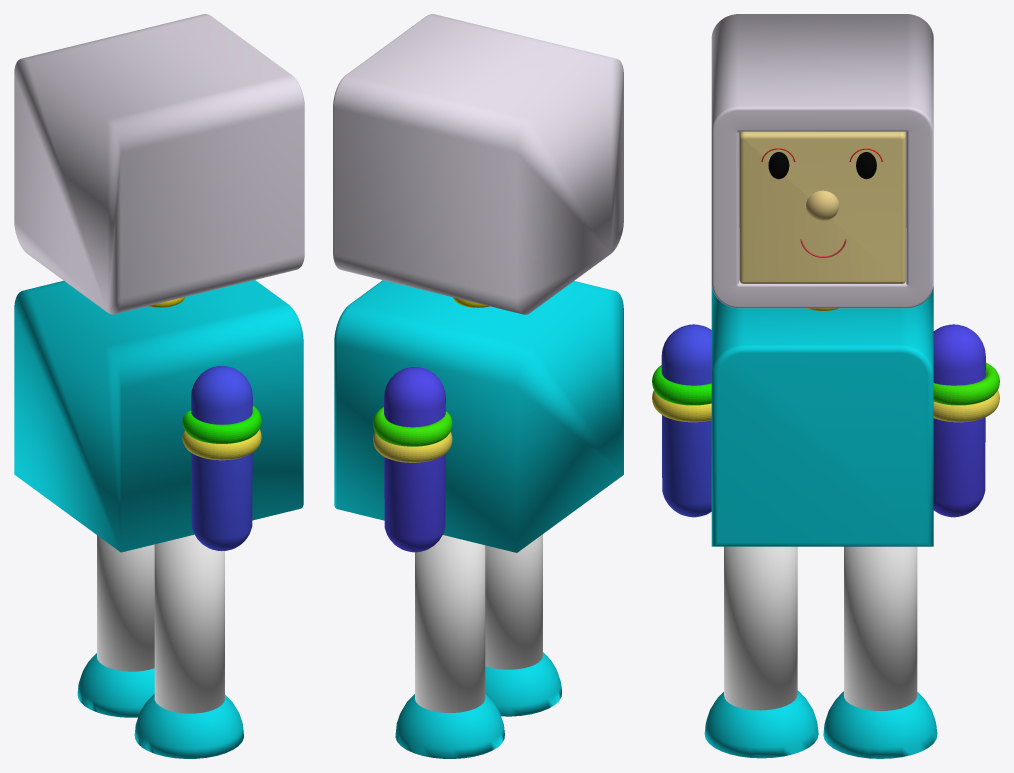
The model's file is robot.fbx.
3 views of the same model, side by side, from view 1: azimuth 30°, elevation 25°; view 2: azimuth 150°, elevation 25°; view 3: azimuth 270°, elevation 25° (orthographic). The views are drawn at different scales.
Visible parts, largest first — view 1: Cube.001, Cube, Cylinder.002, Sphere.004, Cylinder.001, Sphere.006, Sphere.005, Torus.004, Torus.005; view 2: Cube.001, Cube, Cylinder.001, Sphere.003, Cylinder.002, Sphere.005, Sphere.006, Torus.006, Torus.007; view 3: Cube, Cube.001, Cube.002, Cylinder.001, Cylinder.002, Sphere.003, Sphere.004, Sphere.006, Sphere.005, Torus.006, Torus.004, Torus.007 (+2 smaller).
Part boxes in pixels (bbox=[...]): Cube.001: bbox=[14, 14, 304, 314]; Cube: bbox=[14, 280, 303, 552]; Cylinder.002: bbox=[154, 534, 224, 713]; Sphere.004: bbox=[191, 366, 252, 551]; Cylinder.001: bbox=[97, 535, 154, 671]; Sphere.006: bbox=[134, 694, 243, 758]; Sphere.005: bbox=[77, 653, 154, 717]; Torus.004: bbox=[182, 406, 261, 443]; Torus.005: bbox=[182, 429, 261, 460]; Cube.001: bbox=[333, 14, 623, 314]; Cube: bbox=[334, 280, 623, 552]; Cylinder.001: bbox=[415, 535, 485, 712]; Sphere.003: bbox=[384, 367, 445, 552]; Cylinder.002: bbox=[485, 534, 542, 669]; Sphere.005: bbox=[395, 694, 504, 758]; Sphere.006: bbox=[485, 652, 561, 716]; Torus.006: bbox=[373, 407, 452, 446]; Torus.007: bbox=[373, 432, 452, 462]; Cube: bbox=[711, 286, 933, 546]; Cube.001: bbox=[711, 14, 933, 308]; Cube.002: bbox=[739, 131, 905, 283]; Cylinder.001: bbox=[844, 546, 917, 710]; Cylinder.002: bbox=[724, 546, 797, 710]; Sphere.003: bbox=[933, 324, 985, 517]; Sphere.004: bbox=[661, 324, 711, 517]; Sphere.006: bbox=[704, 690, 818, 758]; Sphere.005: bbox=[823, 691, 937, 758]; Torus.006: bbox=[933, 362, 999, 405]; Torus.004: bbox=[652, 365, 711, 405]; Torus.007: bbox=[933, 390, 999, 422].
Size of the model in its own units: 215 by 669 by 313.
